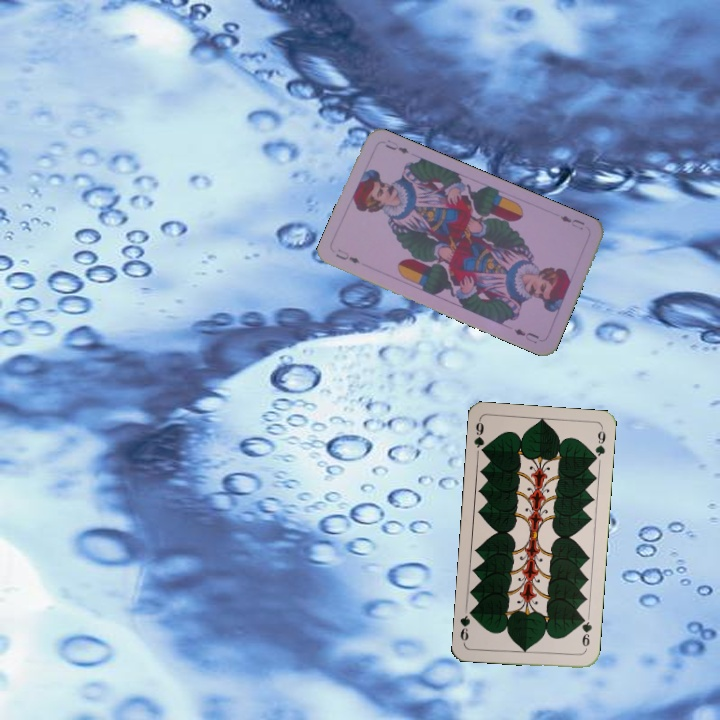EU: (556, 211, 587, 232), (331, 245, 362, 266)
G9: (470, 416, 489, 457), (577, 613, 594, 654)
